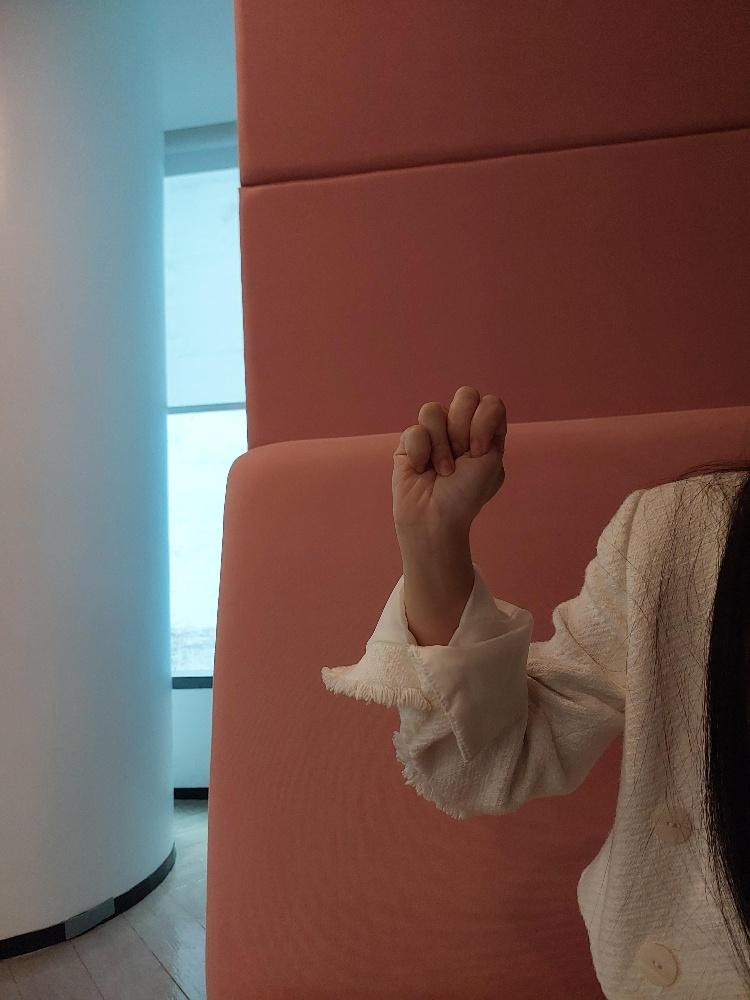n: (388, 383, 506, 519)
